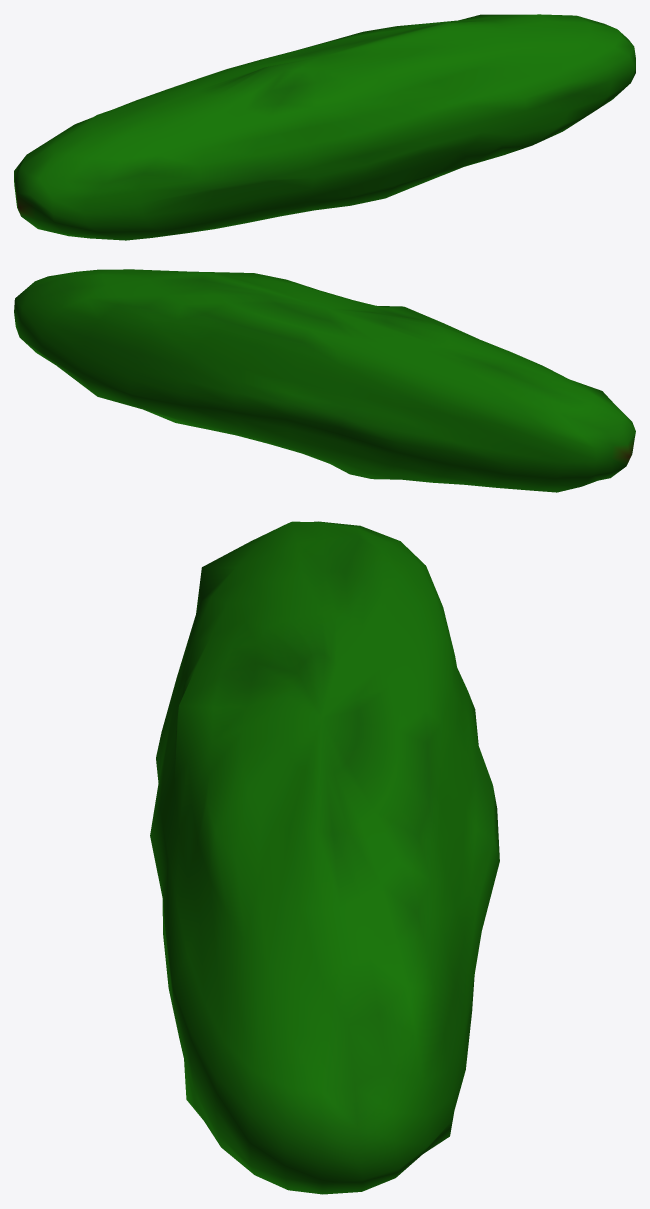
File: огурец.fbx
The picture shows the model from 3 angles, top to bottom: view 1: azimuth 30°, elevation 25°; view 2: azimuth 150°, elevation 25°; view 3: azimuth 270°, elevation 25°; orthographic projection. The views are drawn at different scales.
Parts seen in each view (by area): view 1: Сфера; view 2: Сфера; view 3: Сфера.
Boxes of the visible parts, <box> form: Сфера: <box>14,14,635,240</box>; Сфера: <box>14,269,635,492</box>; Сфера: <box>150,521,499,1194</box>.
Bounding box in the file's own units: 665 × 151 × 166.
